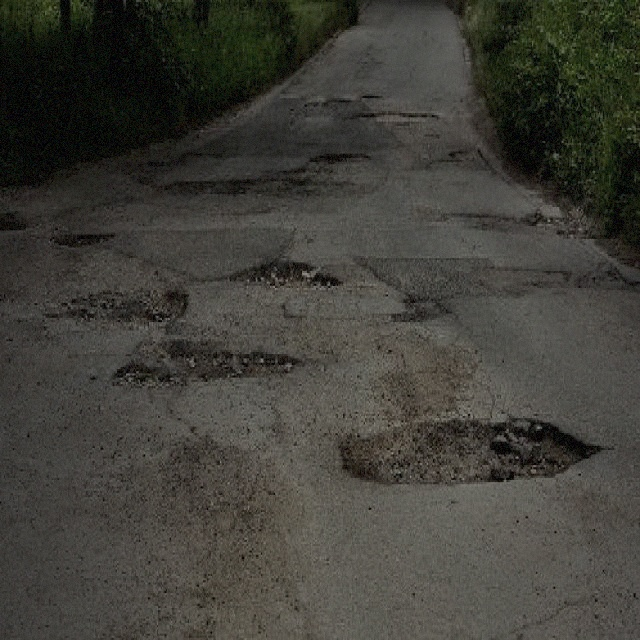pothole: (334, 412, 602, 488), (110, 335, 304, 392), (63, 286, 188, 328), (228, 258, 340, 288), (388, 292, 450, 329), (49, 226, 113, 248), (352, 108, 440, 122), (307, 150, 372, 167), (0, 211, 28, 230)
